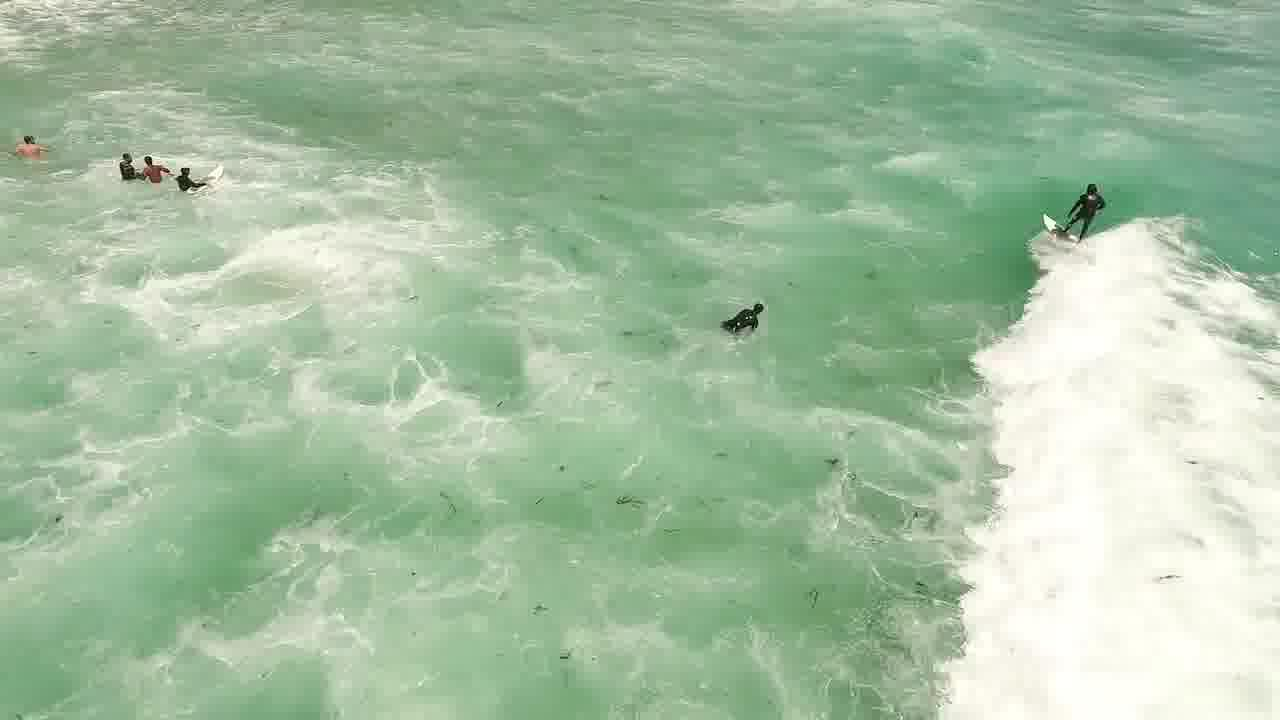swimmer: (171, 161, 236, 216), (709, 291, 778, 340), (6, 125, 62, 167), (137, 140, 177, 188), (105, 145, 149, 184)
